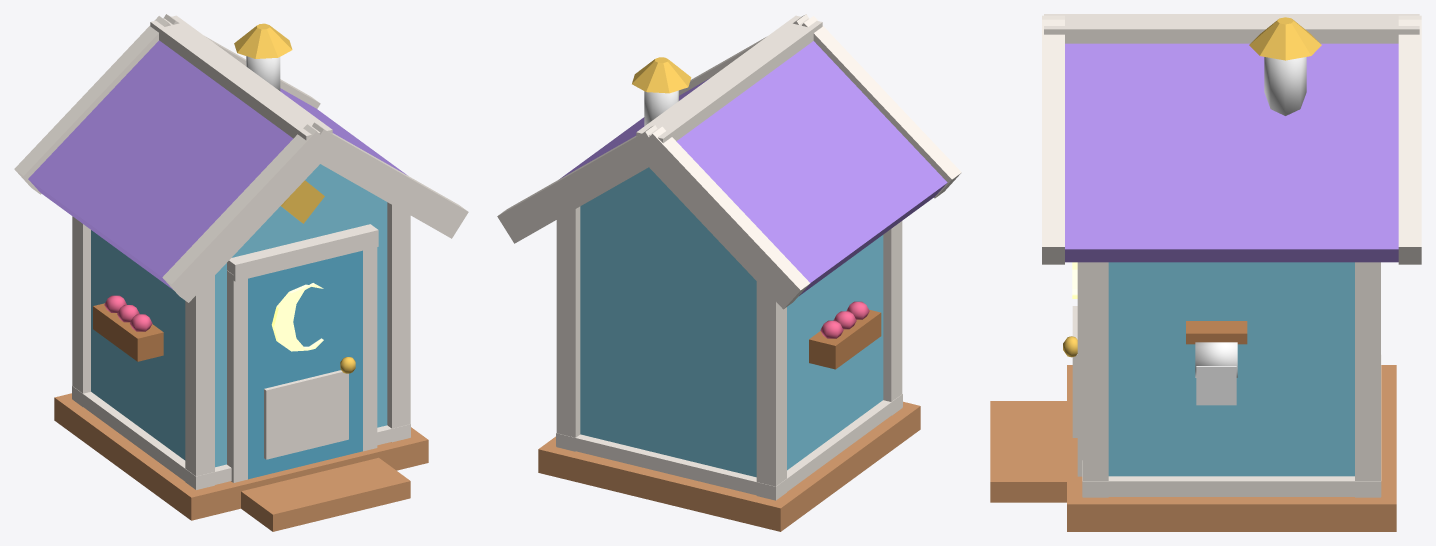
Rendered from toilet.glb.
The picture shows the model from 3 angles, left to right: view 1: azimuth 30°, elevation 25°; view 2: azimuth 150°, elevation 25°; view 3: azimuth 270°, elevation 25°; orthographic projection. The views are drawn at different scales.
Parts seen in each view (by area): view 1: toilet, ToiletDoor; view 2: toilet; view 3: toilet, ToiletDoor.
Boxes of the visible parts, x1,y1,x2,y2 form: toilet: (14,14,468,531); ToiletDoor: (248,250,362,479); toilet: (497,14,961,531); toilet: (990,14,1421,531); ToiletDoor: (1063,262,1077,437).
Size of the model in its own units: 1.08 by 1.34 by 1.12.
